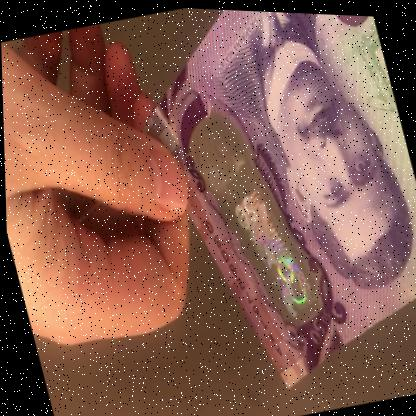50F: (204, 115, 319, 329)
